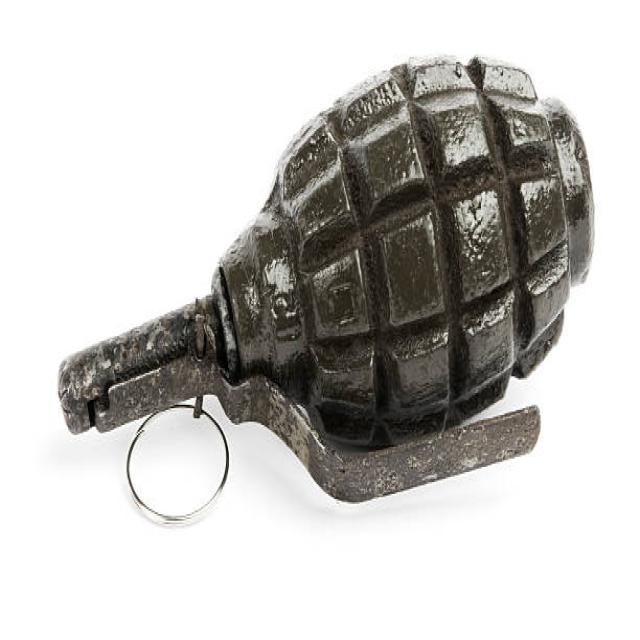grenade: (55, 52, 597, 530)
